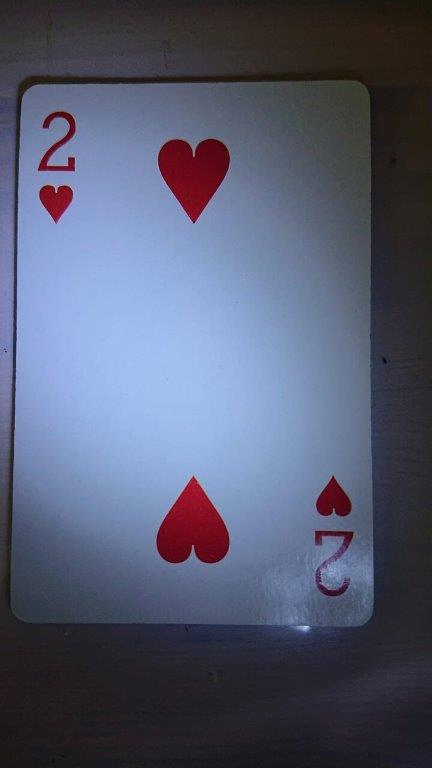2H: (7, 76, 376, 629)
